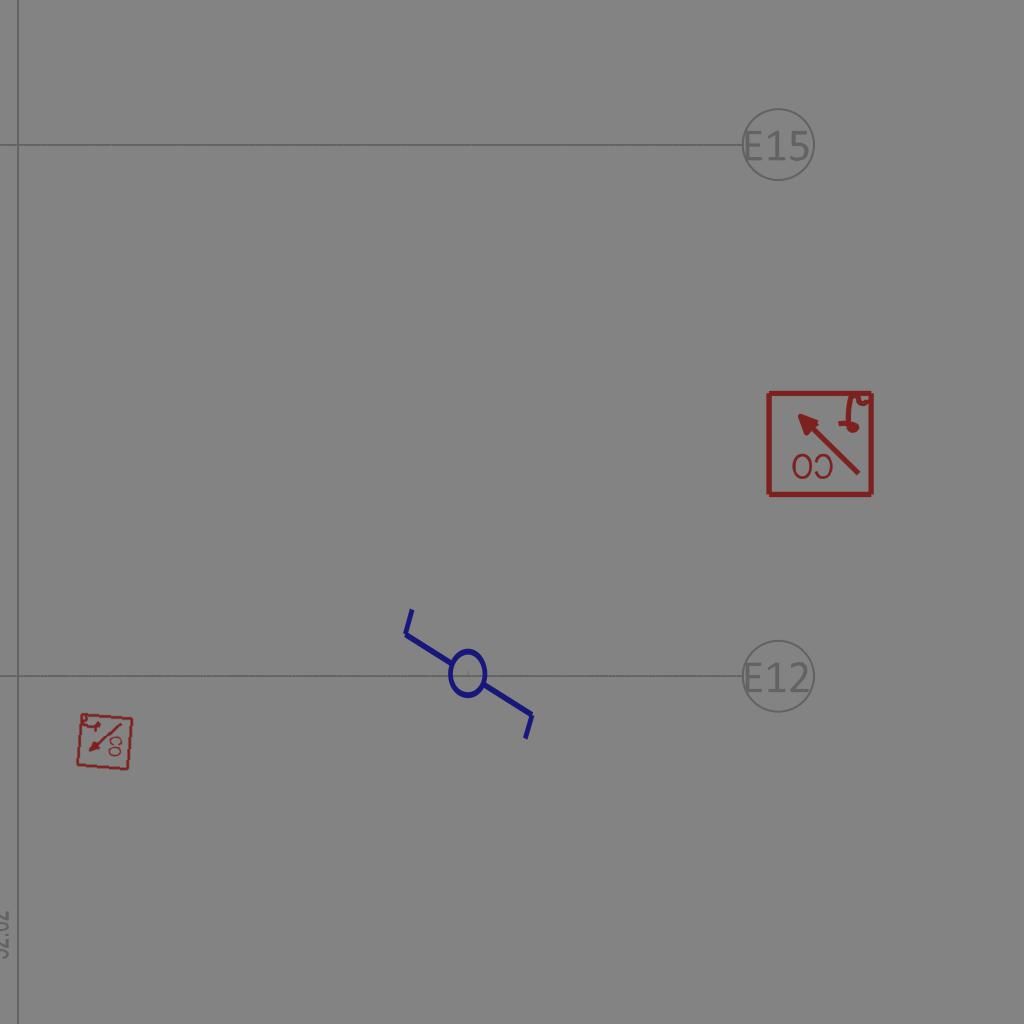ROA_Rauchmelder_optisch_mit_Signalgeber_(Sockelsirene): (763, 386, 876, 499), (73, 711, 135, 773)
Wechselschalter: (398, 587, 542, 744)
